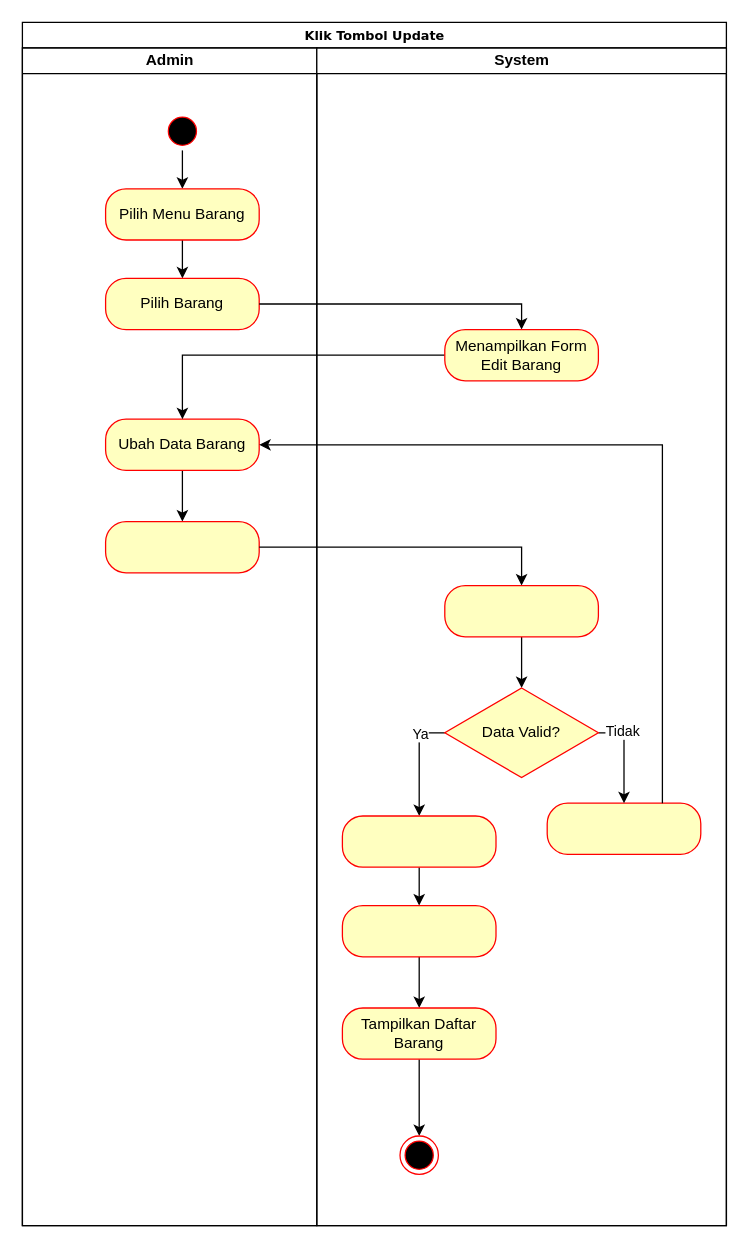
The diagram is 749 pixels wide and 1248 high, and some of its shapes have lost their labels. The centre of each missing label's shape, as x and y in pixels:
"Klik Update" goes at (181,546).
"Simpan Perubahan Ke Database" goes at (418,841).
"Tampilkan Pesan Berhasil" goes at (418,930).
"Tampilkan Pesan Kesalahan" goes at (623,828).
"Validasi Data" goes at (521,610).
